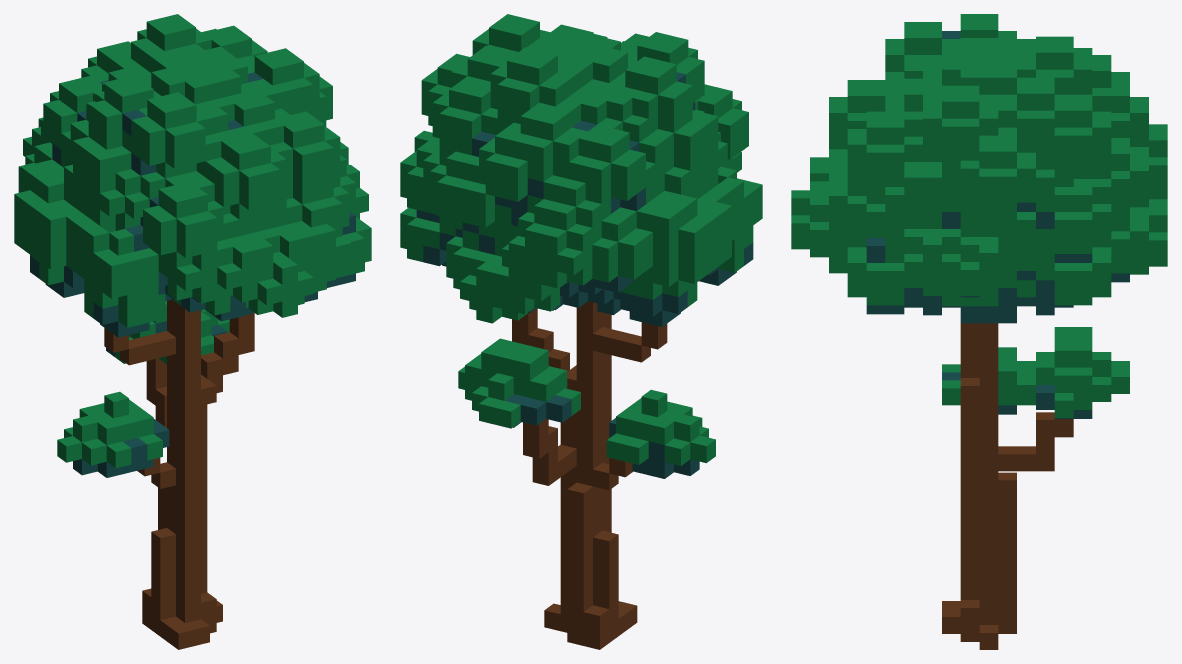
File: Sapling.fbx
The picture shows the model from 3 angles, left to right: view 1: azimuth 30°, elevation 25°; view 2: azimuth 150°, elevation 25°; view 3: azimuth 270°, elevation 25°; orthographic projection. The views are drawn at different scales.
Parts seen in each view (by area): view 1: Sapling; view 2: Sapling; view 3: Sapling.
Part boxes in pixels (<box>): Sapling: <box>14,14,371,649</box>; Sapling: <box>400,14,762,649</box>; Sapling: <box>791,14,1167,649</box>.
Bounding box in the file's own units: 190 × 350 × 200.
